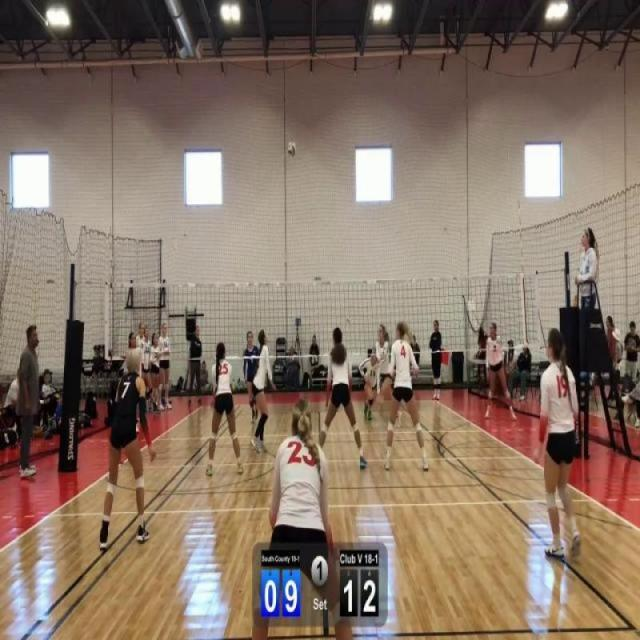volleyball: (286, 140, 298, 159)
